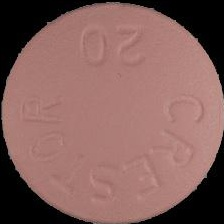52959-629: (0, 0, 224, 224)
